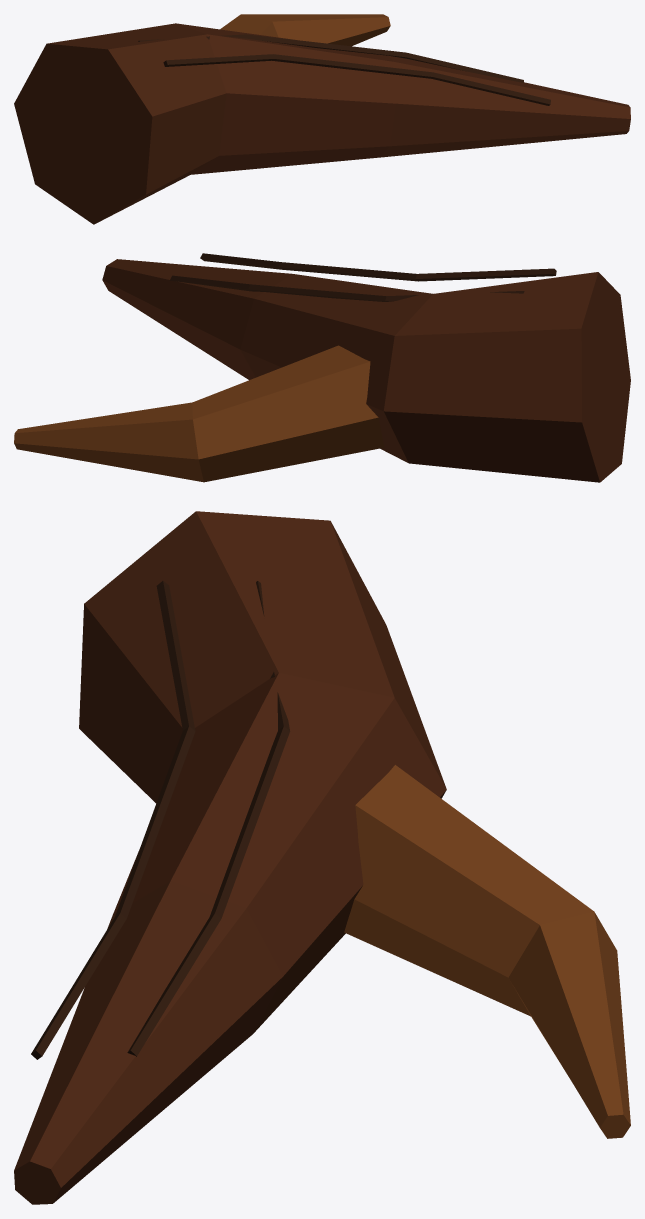
The model's file is forest_root.glb.
3 renders of one model, top to bottom at view 1: azimuth 30°, elevation 25°; view 2: azimuth 150°, elevation 25°; view 3: azimuth 270°, elevation 25°, orthographic. The views are drawn at different scales.
Visible parts, largest first — view 1: Gnarled exposed root, Root fork, Root bark carved grain, Root bark carved grain.001; view 2: Gnarled exposed root, Root fork, Root bark carved grain, Root bark carved grain.001; view 3: Gnarled exposed root, Root fork, Root bark carved grain, Root bark carved grain.001.
Part boxes in pixels (x1=…): Gnarled exposed root: x1=14, y1=23, x2=630, y2=224; Root fork: x1=220, y1=14, x2=390, y2=46; Root bark carved grain: x1=163, y1=54, x2=550, y2=105; Root bark carved grain.001: x1=138, y1=34, x2=523, y2=82; Gnarled exposed root: x1=102, y1=259, x2=630, y2=482; Root fork: x1=14, y1=345, x2=384, y2=482; Root bark carved grain: x1=200, y1=253, x2=556, y2=281; Root bark carved grain.001: x1=170, y1=275, x2=524, y2=301; Gnarled exposed root: x1=14, y1=511, x2=446, y2=1204; Root fork: x1=344, y1=765, x2=630, y2=1138; Root bark carved grain: x1=31, y1=581, x2=195, y2=1059; Root bark carved grain.001: x1=127, y1=581, x2=290, y2=1056.
Bounding box in the file's own units: 0.9979 × 0.312 × 0.5862.
